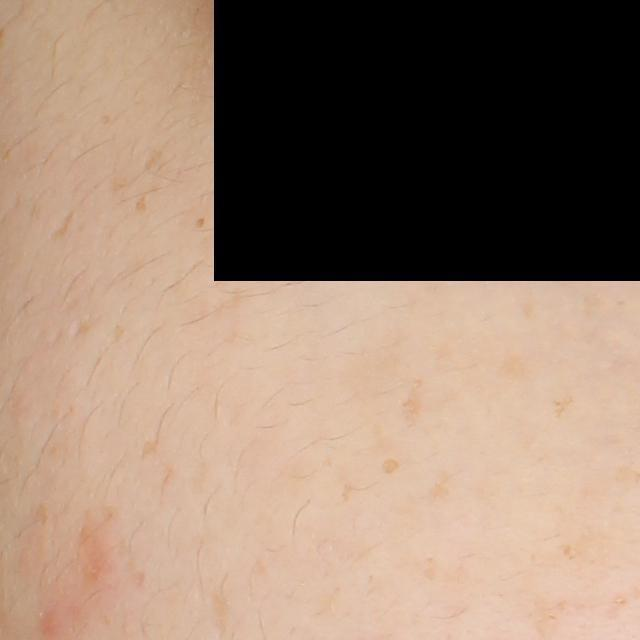melasma: (417, 466, 460, 504), (400, 376, 427, 431), (48, 209, 76, 242), (141, 145, 167, 176), (551, 393, 578, 422), (379, 456, 402, 479), (133, 192, 148, 213), (195, 213, 207, 230)
